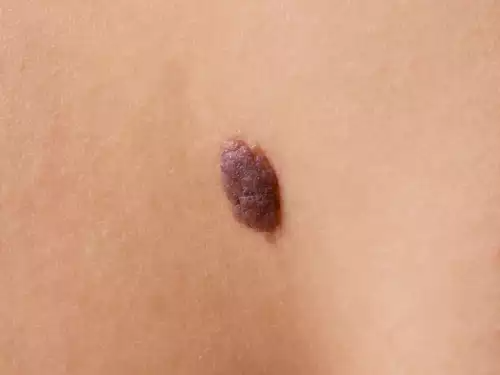Normal: (220, 141, 283, 232)
